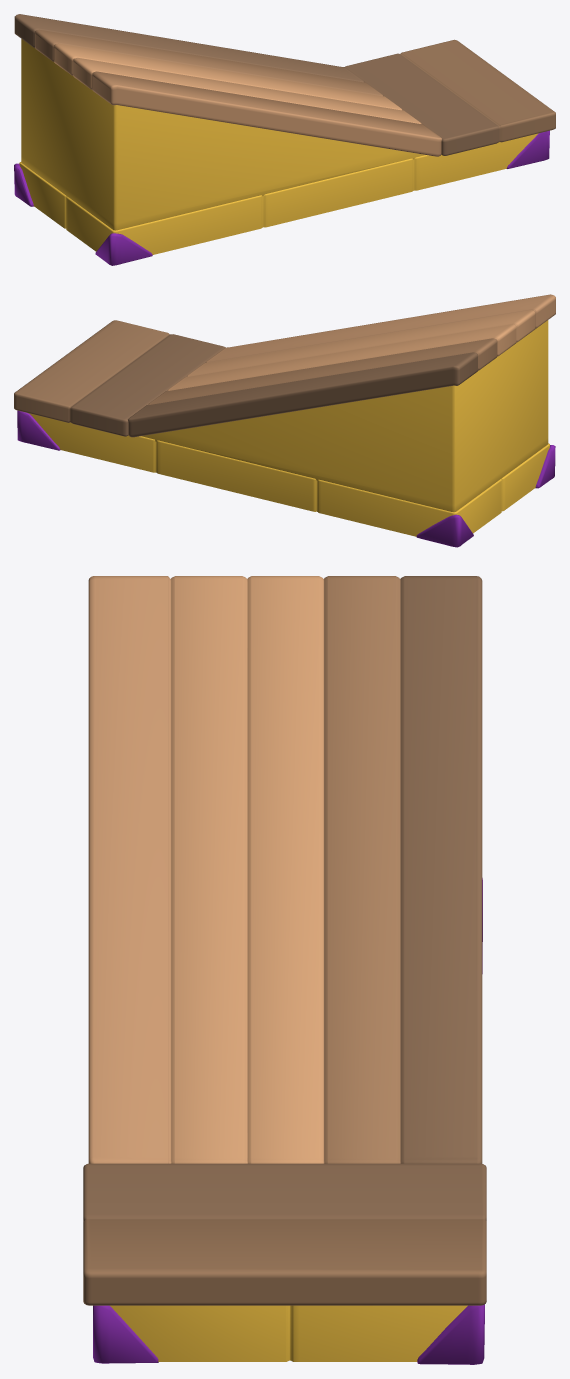
Rendered from HoopsRamp2.fbx.
3 renders of one model, top to bottom at view 1: azimuth 30°, elevation 25°; view 2: azimuth 150°, elevation 25°; view 3: azimuth 270°, elevation 25°, orthographic. The views are drawn at different scales.
Visible parts, largest first — view 1: ENv_S02_Ramp_MO_1, ENv_S02_Ramp_MO_2, ENv_S02_Ramp_MO_3, ENv_S02_Ramp_MO_0; view 2: ENv_S02_Ramp_MO_1, ENv_S02_Ramp_MO_2, ENv_S02_Ramp_MO_3, ENv_S02_Ramp_MO_0; view 3: ENv_S02_Ramp_MO_2, ENv_S02_Ramp_MO_3, ENv_S02_Ramp_MO_1, ENv_S02_Ramp_MO_0.
Boxes of the visible parts, box(x1,y1,x2,y2) form: ENv_S02_Ramp_MO_1: box(19, 39, 538, 254); ENv_S02_Ramp_MO_2: box(14, 14, 441, 156); ENv_S02_Ramp_MO_3: box(344, 39, 555, 155); ENv_S02_Ramp_MO_0: box(14, 130, 549, 265); ENv_S02_Ramp_MO_1: box(28, 320, 549, 536); ENv_S02_Ramp_MO_2: box(128, 294, 555, 437); ENv_S02_Ramp_MO_3: box(14, 320, 225, 436); ENv_S02_Ramp_MO_0: box(17, 410, 555, 547); ENv_S02_Ramp_MO_2: box(88, 576, 482, 1163); ENv_S02_Ramp_MO_3: box(83, 1163, 486, 1305); ENv_S02_Ramp_MO_1: box(110, 1305, 467, 1361); ENv_S02_Ramp_MO_0: box(93, 878, 484, 1364).
Bounding box in the file's own units: 30.06 × 11.68 × 11.82.
